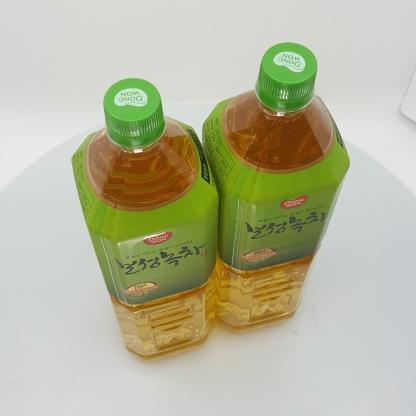------1500ML: (200, 42, 350, 333), (71, 78, 219, 362)
